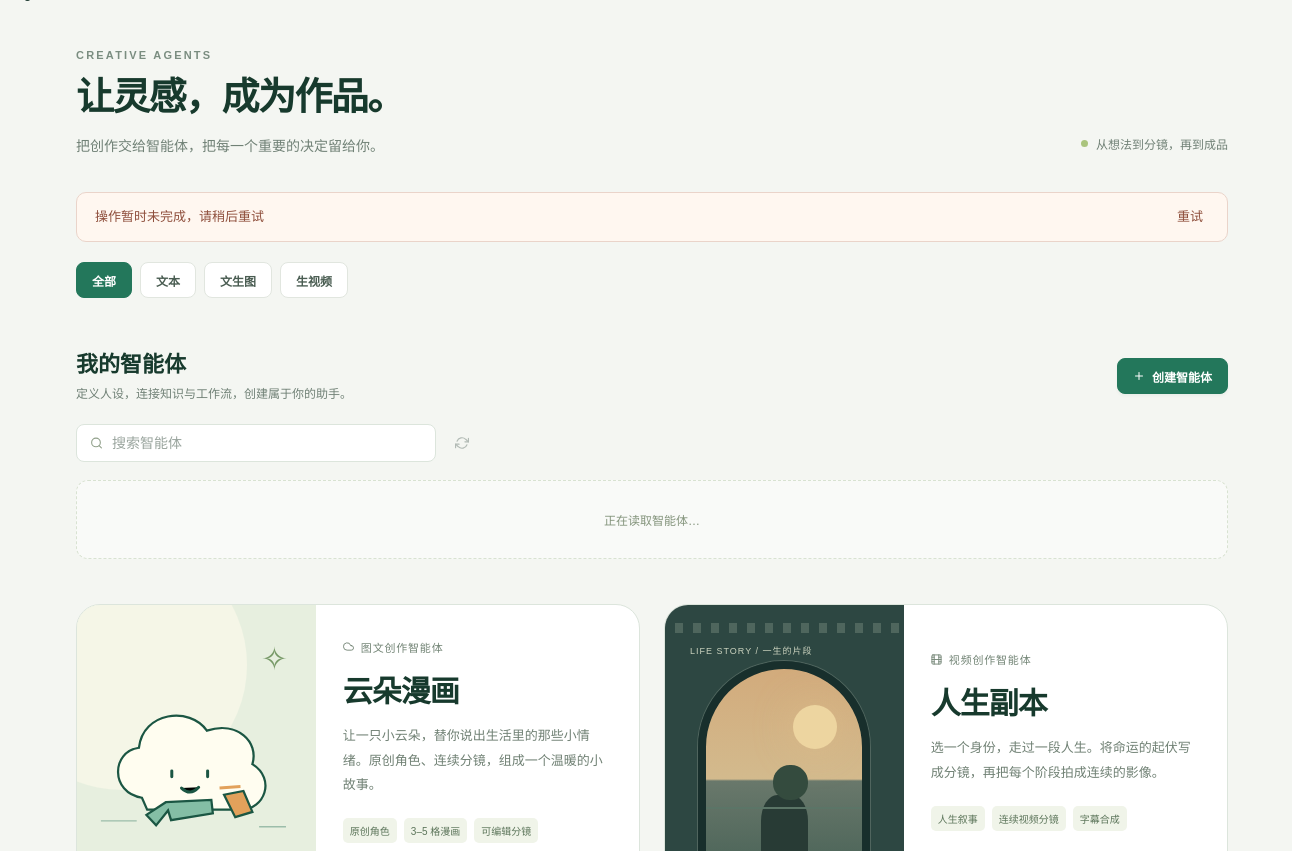
Test: 列表失败提示经过清理，重试后显示真实作品
expect the message "操作暂时未完成，请稍后重试 重试" is shown: met, box [76, 192, 1228, 242]
Click the button "重试" at [1190, 217], box [1171, 206, 1209, 228]
(page scrolled)
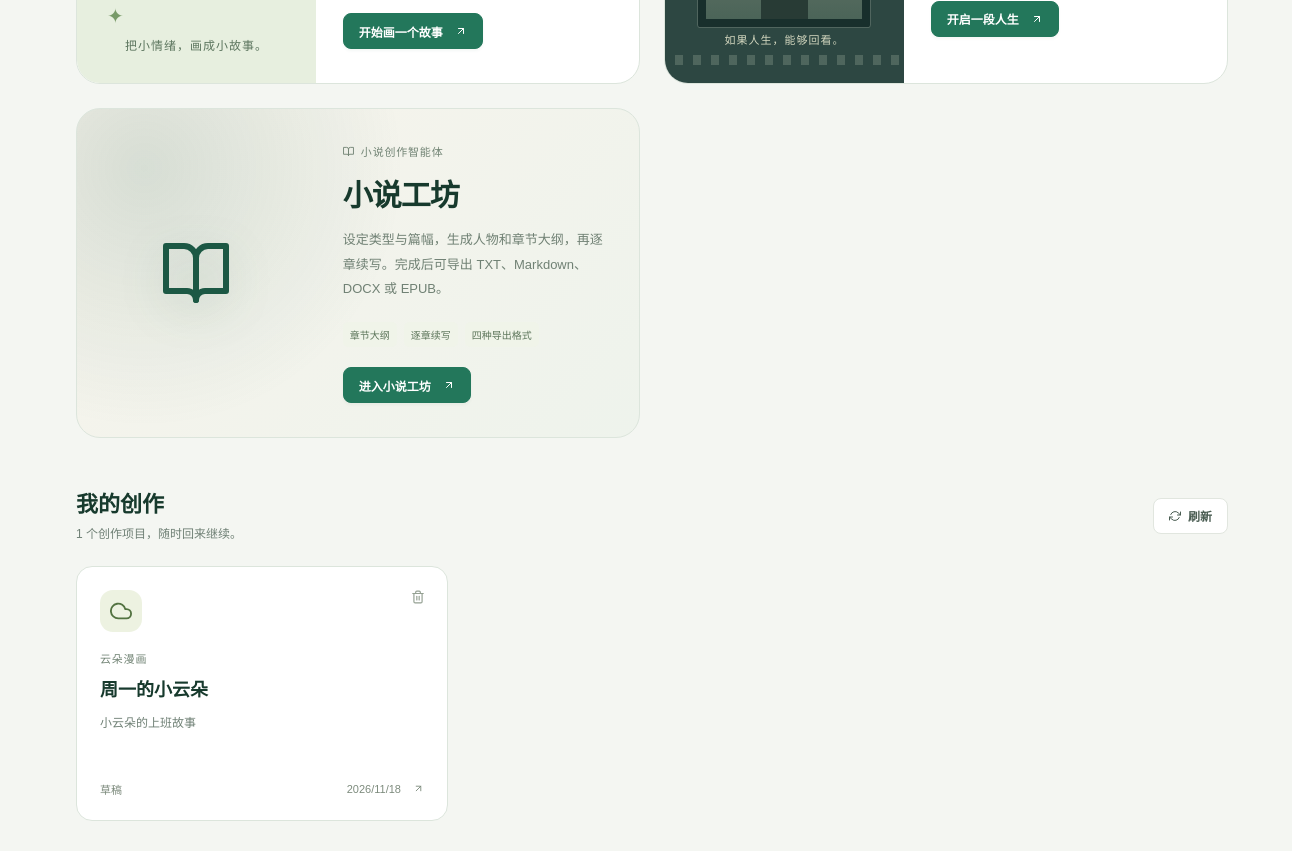
expect the text "1 个创作项目，随时回来继续。" is shown: met, box [76, 524, 242, 546]
